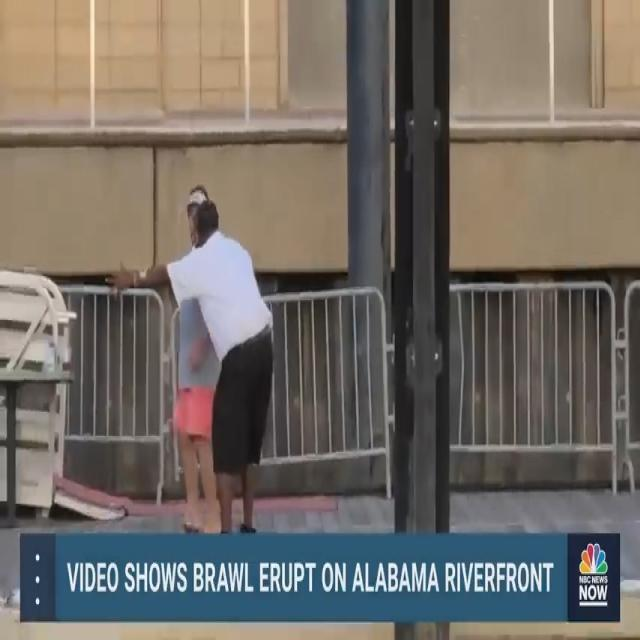non-fight: (102, 171, 284, 535)
